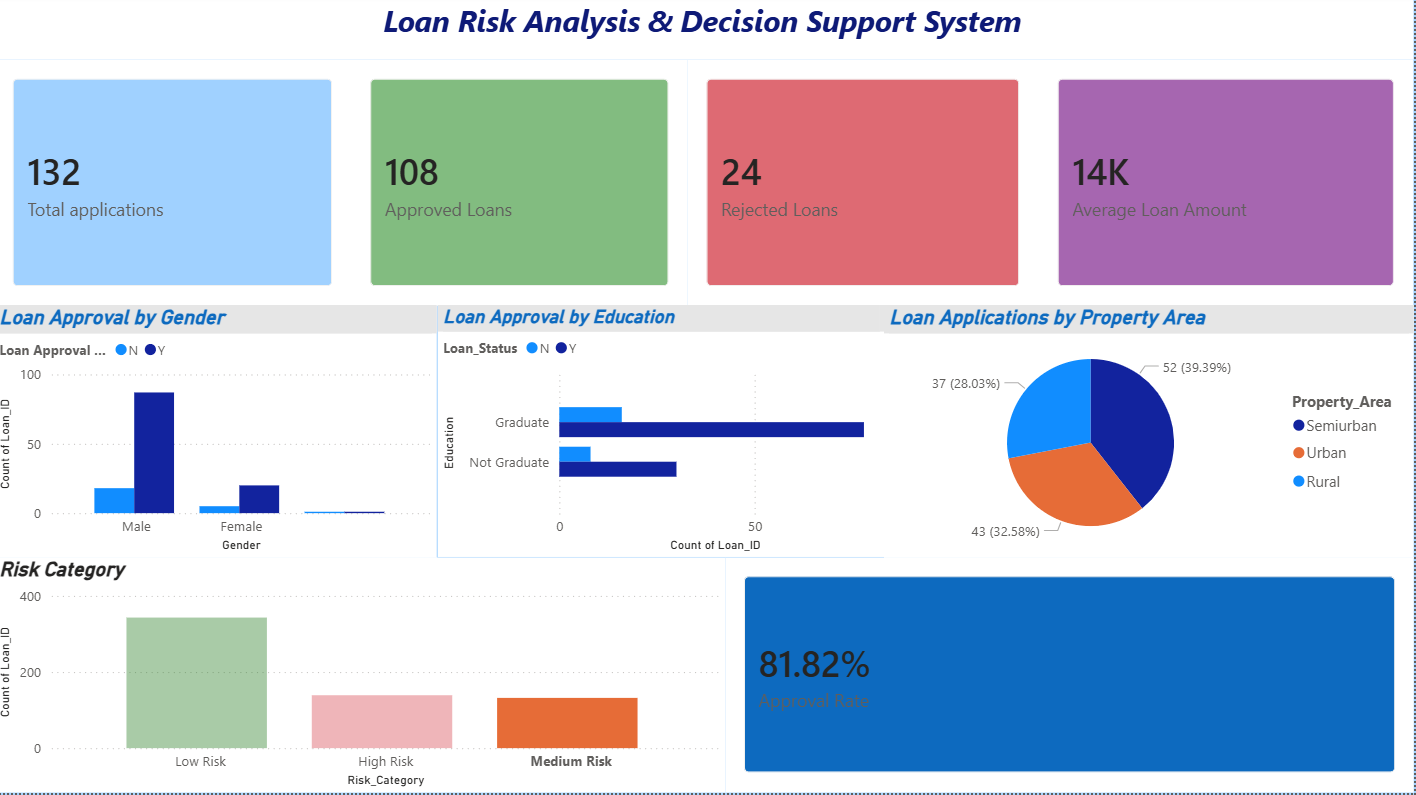

Layout of this report page (visuals, bound fields, positions):
{"tool":"powerbi","page":{"name":"Page 1","canvas":[1280,720],"ordinal":0},"visuals":[{"type":"cardVisual","fields":{"Data":["CountNonNull(train_u6lujuX_CVtuZ9i.Loan_ID)"]},"box":[0,58.7,322.8,221.3],"z":0},{"type":"cardVisual","fields":{"Data":["CountNonNull(train_u6lujuX_CVtuZ9i.Loan_ID)"]},"box":[322.8,58.7,303.3,221.3],"z":1000},{"type":"cardVisual","fields":{"Data":["CountNonNull(train_u6lujuX_CVtuZ9i.Loan_ID)"]},"box":[626.1,58.7,316.7,221.3],"z":2000},{"type":"cardVisual","fields":{"Data":["Sum(train_u6lujuX_CVtuZ9i.LoanAmount)"]},"box":[942.8,58.7,337.5,221.3],"z":3000},{"type":"clusteredColumnChart","title":"Loan Approval by Gender","fields":{"Category":["train_u6lujuX_CVtuZ9i.Gender"],"Y":["CountNonNull(train_u6lujuX_CVtuZ9i.Loan_ID)"],"Series":["train_u6lujuX_CVtuZ9i.Loan_Status"]},"box":[0,279.5,399,227.7],"z":4000},{"type":"clusteredBarChart","title":"Loan Approval by Education","fields":{"Category":["train_u6lujuX_CVtuZ9i.Education"],"Y":["CountNonNull(train_u6lujuX_CVtuZ9i.Loan_ID)"],"Series":["train_u6lujuX_CVtuZ9i.Loan_Status"]},"box":[399,279.5,403.5,227.7],"z":5000},{"type":"pieChart","title":"   Loan Applications by Property Area","fields":{"Category":["train_u6lujuX_CVtuZ9i.Property_Area"],"Y":["CountNonNull(train_u6lujuX_CVtuZ9i.Loan_ID)"]},"box":[802.5,279.5,477.9,227.7],"z":6000},{"type":"clusteredColumnChart","title":"Risk Category","fields":{"Category":["train_u6lujuX_CVtuZ9i.Risk_Category"],"Y":["CountNonNull(train_u6lujuX_CVtuZ9i.Loan_ID)"]},"box":[0,507.2,659.4,211.9],"z":7000},{"type":"cardVisual","fields":{"Data":["train_u6lujuX_CVtuZ9i.Approval Rate"]},"box":[659.4,507.2,621,211.9],"z":8000},{"type":"textbox","box":[0,0,1280.3,58.7],"z":9000}]}

Visuals, with their boxes in screenshot pixels (x1, y1, x2, y2), scaled from the page's 1280x720 canvas onto the 1416x795 screenshot:
cardVisual - CountNonNull(train_u6lujuX_CVtuZ9i.Loan_ID): bbox=[0, 65, 357, 309]
cardVisual - CountNonNull(train_u6lujuX_CVtuZ9i.Loan_ID): bbox=[357, 65, 693, 309]
cardVisual - CountNonNull(train_u6lujuX_CVtuZ9i.Loan_ID): bbox=[693, 65, 1043, 309]
cardVisual - Sum(train_u6lujuX_CVtuZ9i.LoanAmount): bbox=[1043, 65, 1415, 309]
"Loan Approval by Gender" clusteredColumnChart: bbox=[0, 309, 441, 560]
"Loan Approval by Education" clusteredBarChart: bbox=[441, 309, 888, 560]
"   Loan Applications by Property Area" pieChart: bbox=[888, 309, 1415, 560]
"Risk Category" clusteredColumnChart: bbox=[0, 560, 729, 794]
cardVisual - train_u6lujuX_CVtuZ9i.Approval Rate: bbox=[729, 560, 1415, 794]
textbox: bbox=[0, 0, 1415, 65]
